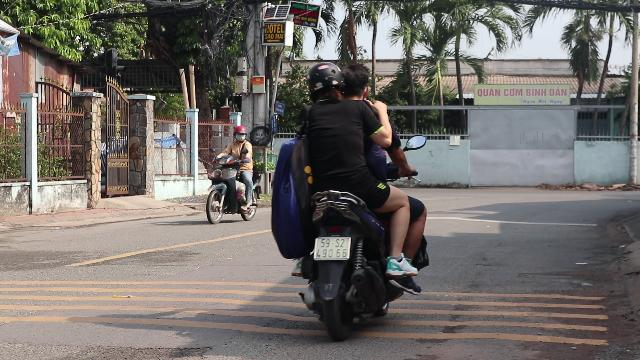helmet: (304, 63, 344, 103), (231, 125, 247, 141)
licenseplate: (314, 238, 350, 258)
motorcyclist: (269, 62, 431, 338), (203, 124, 263, 224)
nohelmet: (338, 65, 369, 99)
